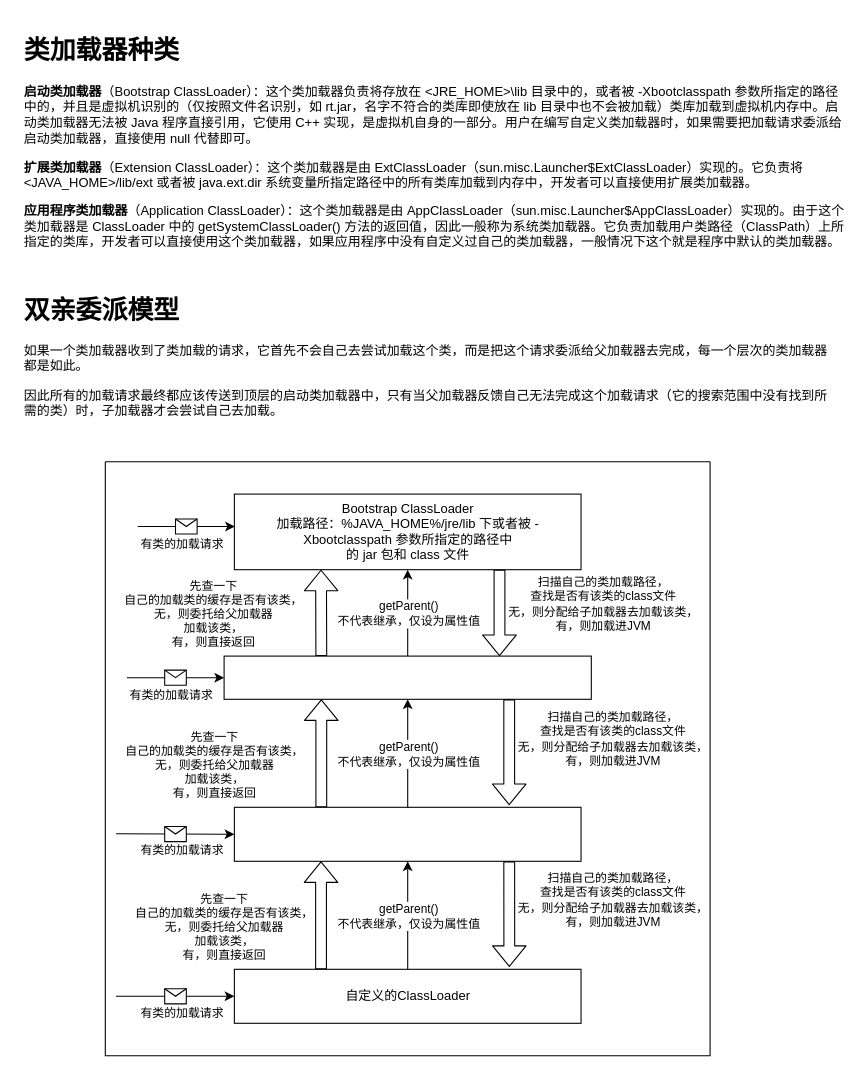
The diagram is 868 pixels wide and 1075 high, and some of its shapes have lost their labels. The centre of each missing label's shape, as x and y in pixels:
AppClassLoader 加载路径：classpath 下的 jar 包和 class 文件 自定义的classloader都会继承该类: (x=407, y=833)
ExtClassLoader 加载路径：%JAVA_HOME%/jre/lib/ext 下的 jar 包和 class 文件: (x=407, y=677)
